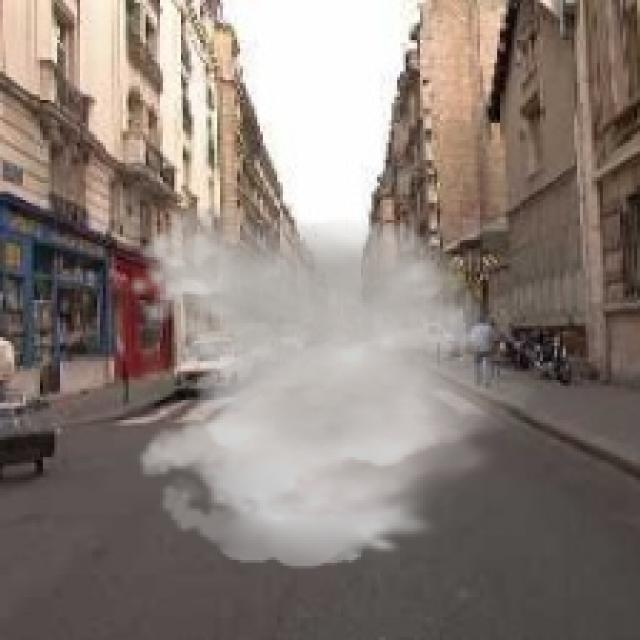smoke: (123, 203, 546, 568)
